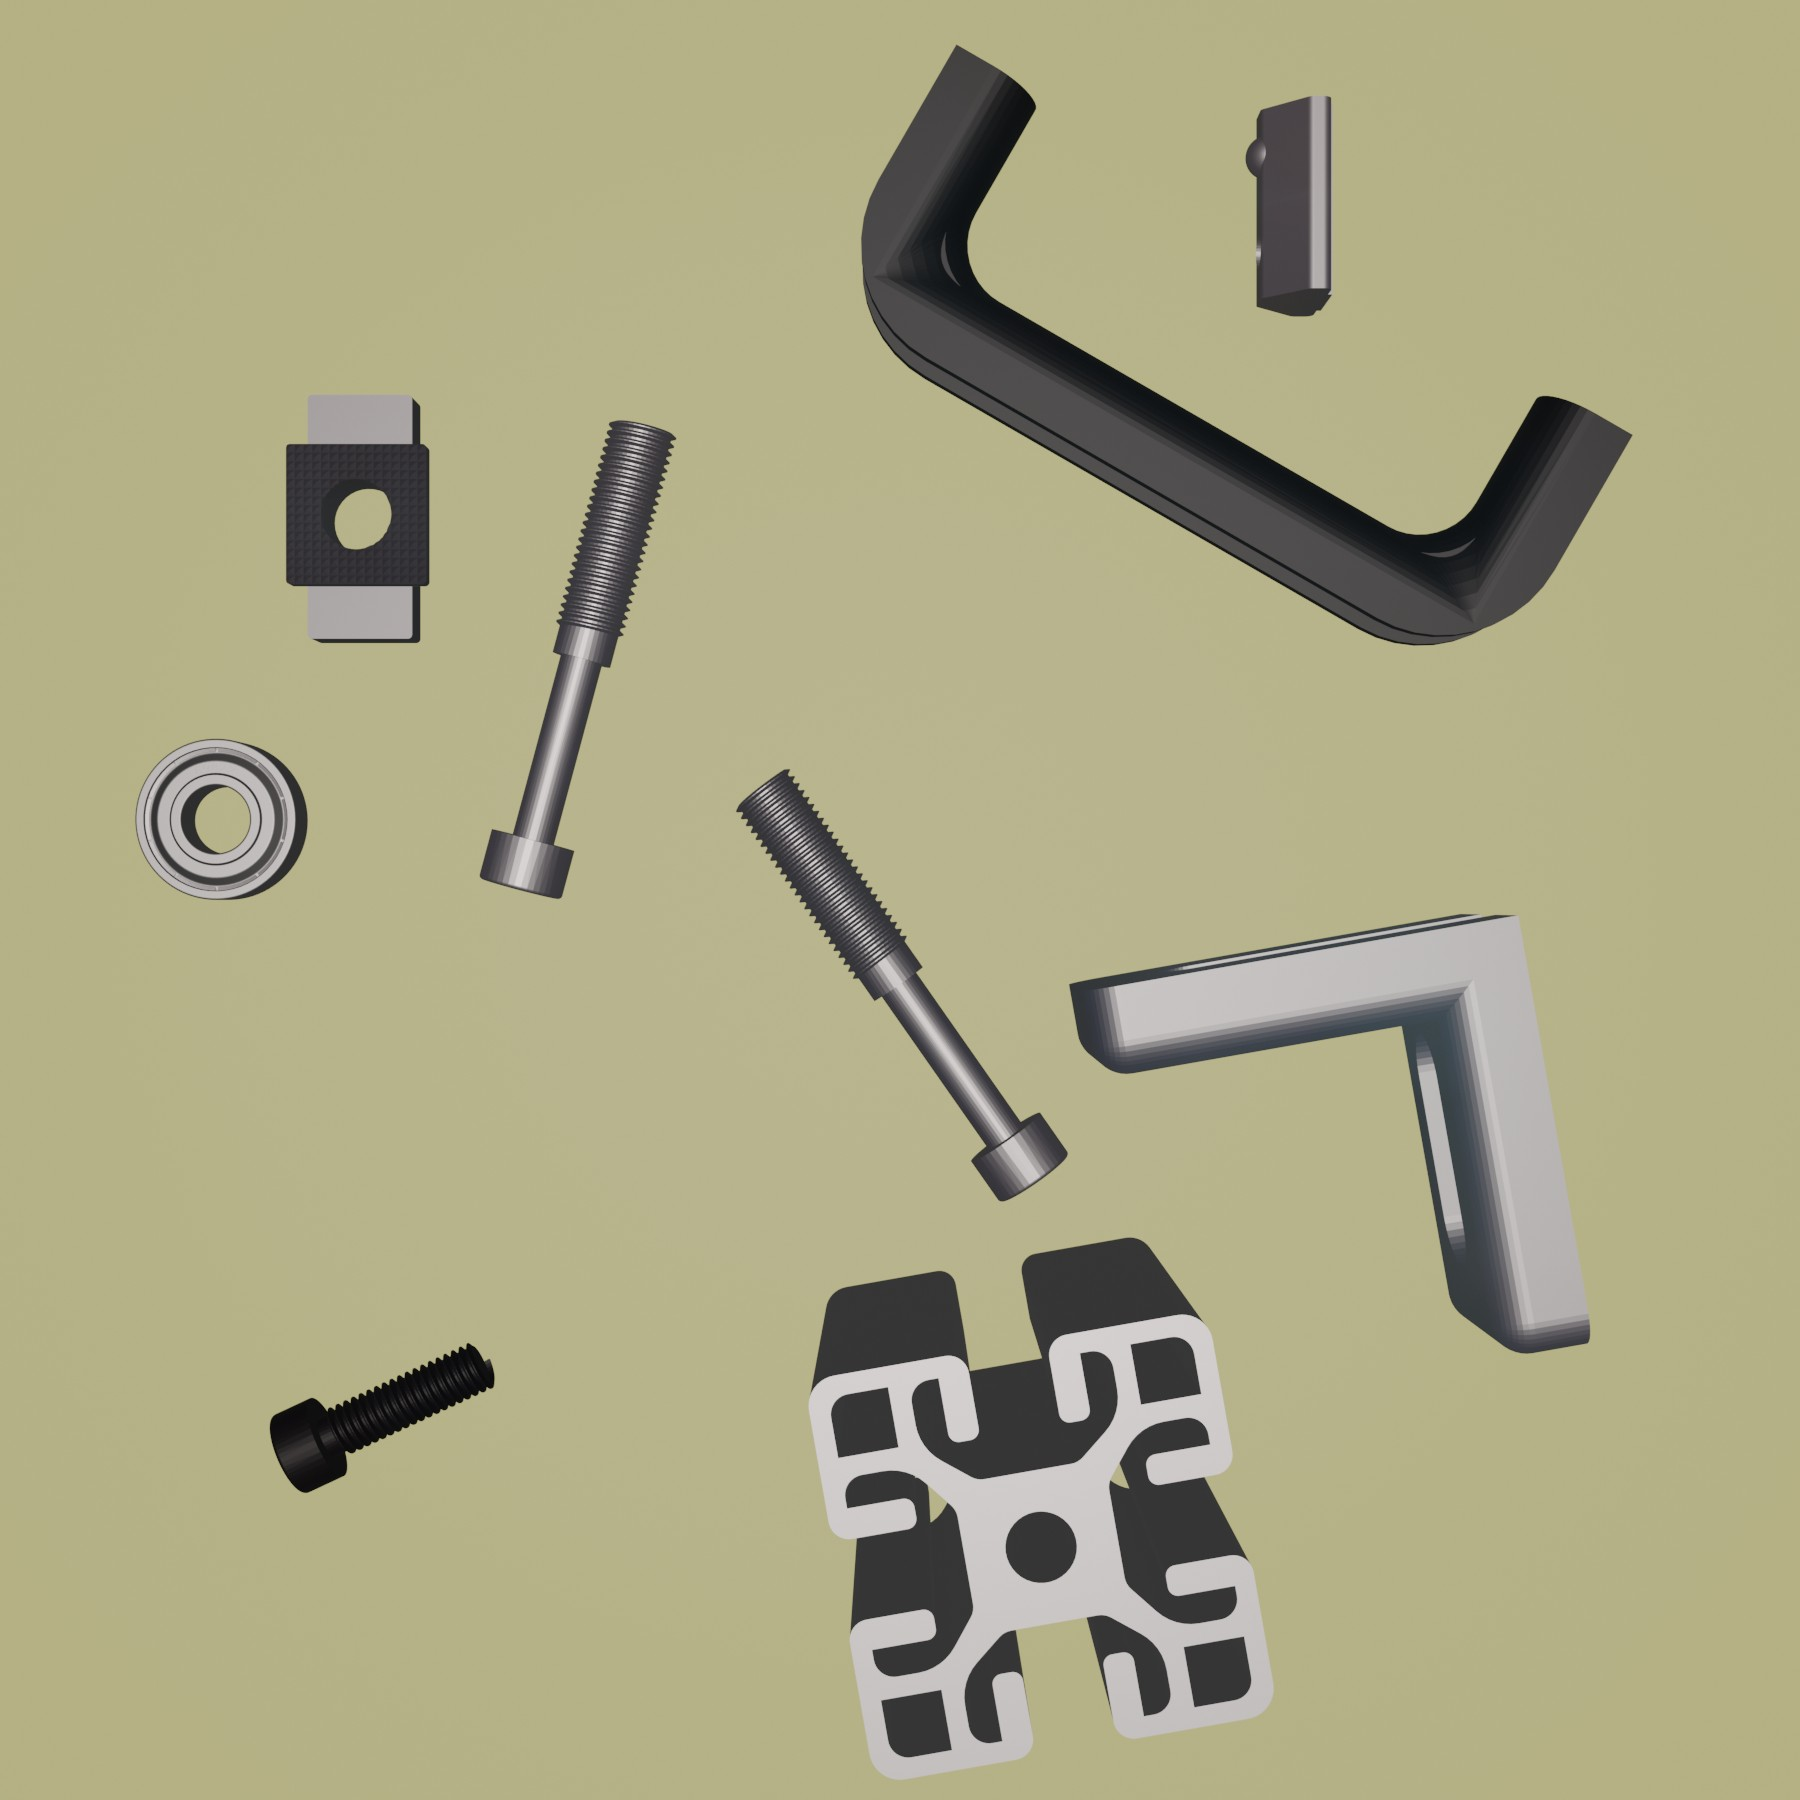Aluminium Extension: (804, 1231, 1277, 1784)
Ball Bearing: (134, 735, 308, 903)
Multiwinkel: (1063, 908, 1592, 1357)
Pull Handle: (859, 41, 1634, 649)
Shoulder Socket Head Cap Screw: (734, 766, 1070, 1208), (476, 415, 679, 902)
Socket Head Cap Screw: (267, 1338, 499, 1497)
T Nut Square: (280, 392, 434, 648)
T Spring Nut: (1241, 87, 1340, 320)
